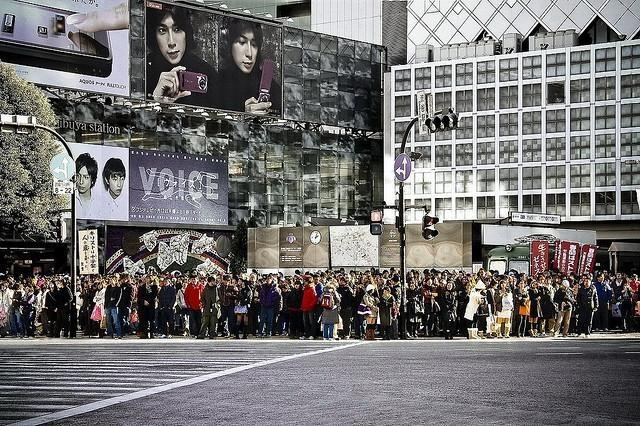bus: (482, 244, 530, 274)
